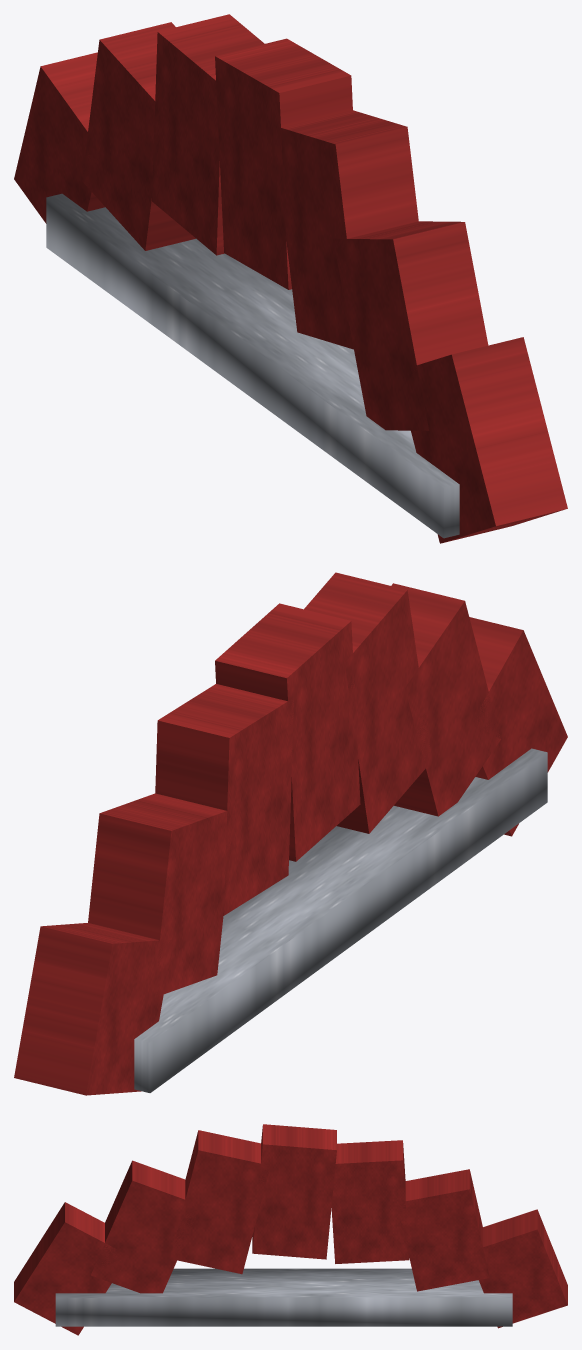
File: rival_legion_plume.obj
The picture shows the model from 3 angles, top to bottom: view 1: azimuth 30°, elevation 25°; view 2: azimuth 150°, elevation 25°; view 3: azimuth 270°, elevation 25°; orthographic projection. The views are drawn at different scales.
Visible parts, largest first — view 1: rival_legion_plume; view 2: rival_legion_plume; view 3: rival_legion_plume.
Part boxes in pixels (bbox=[...]): rival_legion_plume: bbox=[14, 14, 567, 543]; rival_legion_plume: bbox=[14, 572, 567, 1095]; rival_legion_plume: bbox=[14, 1124, 567, 1335].
Bounding box in the file's own units: 0.0812 × 0.2486 × 0.652.
